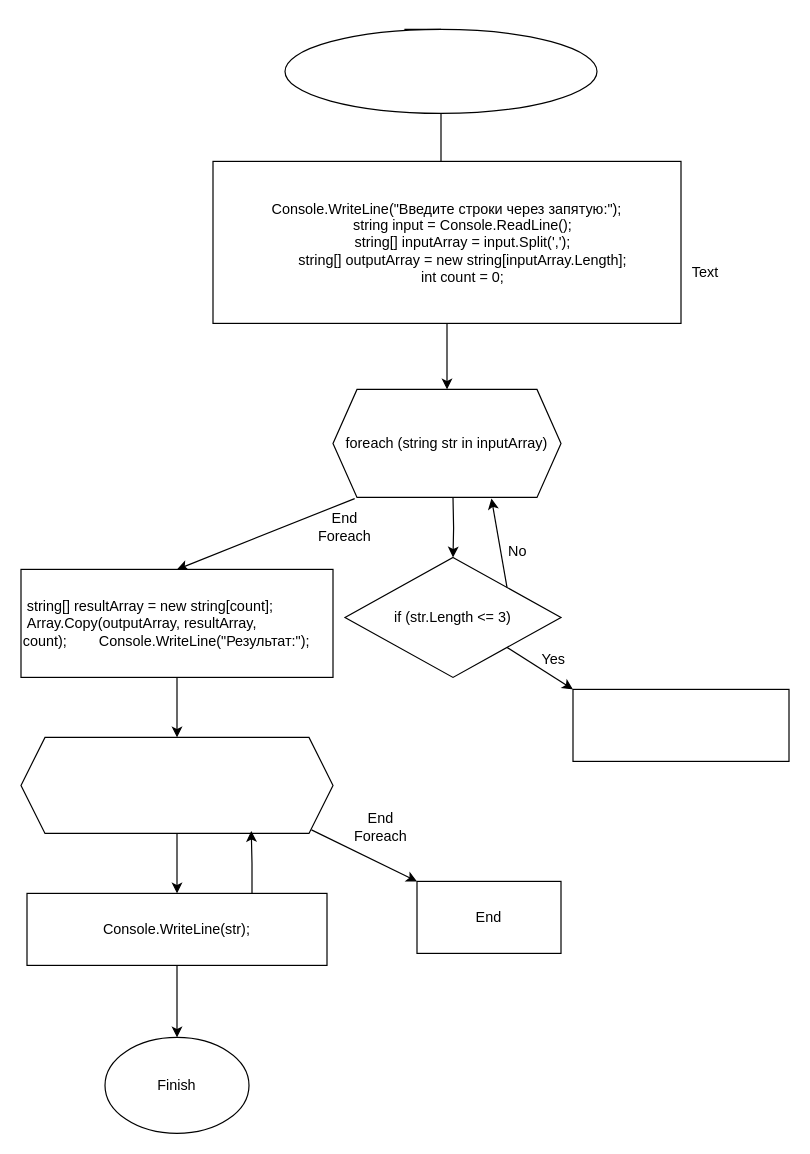
Some shapes in this 810 by 1154 pixel diagram are drawn without their labels. Here are the shapes that lost their labels. From the top down, the centre of each, then its label:
the point at 440,70: Start
the point at 680,724: outputArray[count] = str; count++;
the point at 176,784: foreach (string str in resultArray)
